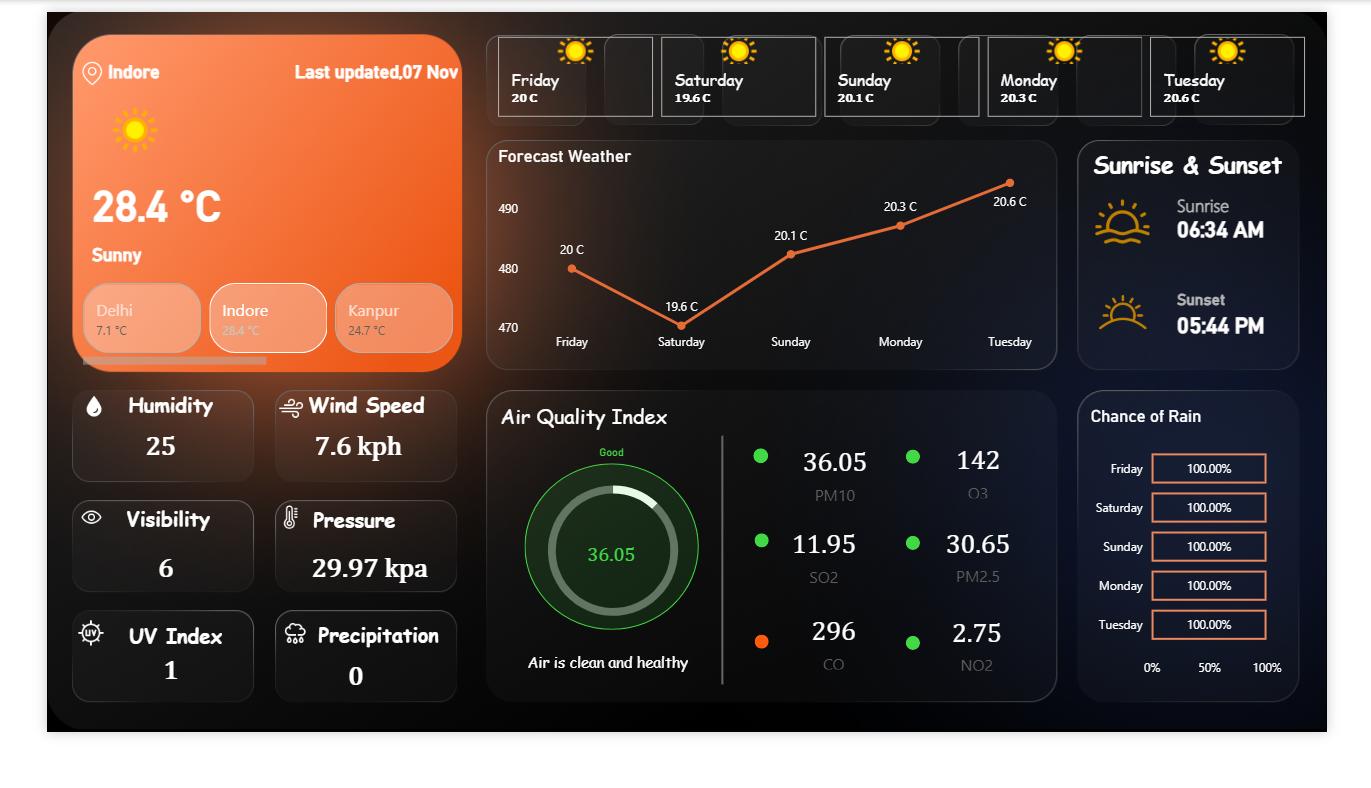

What the dashboard file says about the page in this screenshot:
{"tool":"powerbi","page":{"name":"Page 1","canvas":[1280,720],"ordinal":0},"visuals":[{"type":"advancedSlicerVisual","fields":{"Values":["location.location.name"],"Label":["_measures.curr_temp_c"]},"box":[31.7,266.7,380,93.3],"z":0},{"type":"shape","box":[45,145,170,97.5],"z":1000},{"type":"shape","box":[246.7,31.7,165,58.3],"z":2000},{"type":"shape","box":[61.7,31.7,126.7,58.3],"z":3000},{"type":"image","box":[0,45,90,33.3],"z":4000},{"type":"shape","box":[45,217.5,190,50],"z":5000},{"type":"cardVisual","fields":{"Data":["Min(current.current.condition.icon)"]},"box":[31.4,61.4,108.6,97.1],"z":6000},{"type":"image","box":[11.4,488.6,65.7,32.9],"z":7000},{"type":"shape","box":[58.6,377.1,130,32.9],"z":8000},{"type":"shape","box":[64.3,488.6,130,32.9],"z":9000},{"type":"shape","box":[64.3,608.6,130,32.9],"z":10000},{"type":"shape","box":[247.1,607.1,144.3,32.9],"z":11000},{"type":"shape","box":[247.1,488.6,130,32.9],"z":12000},{"type":"shape","box":[247.1,377.1,130,32.9],"z":13000},{"type":"image","box":[15.7,378.6,61.4,31.4],"z":14000},{"type":"image","box":[8.6,602.9,70,37.1],"z":15000},{"type":"image","box":[214.3,378.6,60,35.7],"z":16000},{"type":"image","box":[214.3,488.6,60,32.9],"z":17000},{"type":"image","box":[215.7,604.3,64.3,35.7],"z":18000},{"type":"card","fields":{"Values":["Sum(current.current.humidity)"]},"box":[38.6,410,150,48.6],"z":19000},{"type":"card","fields":{"Values":["Sum(current.current.precip_in)"]},"box":[234.3,640,150,48.6],"z":20000},{"type":"card","fields":{"Values":["Sum(current.current.vis_km)"]},"box":[44.3,531.4,150,48.6],"z":21000},{"type":"card","fields":{"Values":["Sum(current.current.uv)"]},"box":[48.6,641.4,150,32.9],"z":22000},{"type":"card","fields":{"Values":["_measures.pressure"]},"box":[247.1,531.4,150,48.6],"z":23000},{"type":"advancedSlicerVisual","fields":{"Values":["forecast by day.day name"],"Label":["_measures.ForTEMP_C"]},"box":[445.7,20,820,90],"z":24000},{"type":"lineChart","title":"Forecast Weather ","fields":{"Y":["Sum(forecast by day.forecast.forecastday.day.avgtemp_c)"],"Category":["forecast by day.day name"]},"box":[445.7,134.3,565.7,214.3],"z":25000},{"type":"shape","box":[1040,135.7,201.4,41.4],"z":26000},{"type":"shape","box":[1130,168.6,111.4,48.6],"z":27000},{"type":"shape","box":[1130,264.3,111.4,48.6],"z":28000},{"type":"shape","box":[1130,192.9,111.4,48.6],"z":29000},{"type":"shape","box":[1130,288.6,111.4,48.6],"z":30000},{"type":"image","box":[1035.7,264.3,78.6,72.9],"z":31000},{"type":"image","box":[1035.7,177.1,78.6,64.3],"z":32000},{"type":"hundredPercentStackedBarChart","title":"Chance of Rain ","fields":{"Y":["Sum(forecast by day.forecast.forecastday.day.daily_chance_of_rain)","_measures.LEFT VALUE RAIN"],"Category":["forecast by day.day name"]},"box":[1039,394,201,280],"z":33000},{"type":"shape","box":[445.7,390,181.4,40],"z":34000},{"type":"card","fields":{"Values":["_measures.wind_speed"]},"box":[236.7,410,150,48.3],"z":35000},{"type":"card","fields":{"Values":["Sum(current.current.air_quality.pm2_5)"]},"box":[873.3,505,115,75],"z":37000},{"type":"card","fields":{"Values":["Sum(current.current.air_quality.o3)"]},"box":[873.3,426.7,115,65],"z":38000},{"type":"card","fields":{"Values":["Sum(current.current.air_quality.so2)"]},"box":[721.7,506.7,111.7,73.3],"z":39000},{"type":"card","fields":{"Values":["Sum(current.current.air_quality.no2)"]},"box":[872.5,598.8,115,65],"z":40000},{"type":"card","fields":{"Values":["Sum(current.current.air_quality.co)"]},"box":[728.8,597.5,116.2,65],"z":41000},{"type":"card","fields":{"Values":["Sum(current.current.air_quality.pm10)"]},"box":[731.2,426.2,113.8,68.8],"z":42000},{"type":"shape","box":[706.7,436.7,15,15],"z":43000},{"type":"shape","box":[707.1,622.9,14.3,14.3],"z":43002},{"type":"shape","box":[707.1,521.4,14.3,14.3],"z":43003},{"type":"shape","box":[858.6,524.3,14.3,14.3],"z":43004},{"type":"shape","box":[858.6,437.1,14.3,14.3],"z":43005},{"type":"shape","box":[858.6,624.3,14.3,14.3],"z":43006},{"type":"shape","box":[627.1,424.3,95.7,248.6],"z":43007},{"type":"card","fields":{"Values":["Sum(current.current.air_quality.pm10)"]},"box":[507.1,508.6,114.3,68.6],"z":43009},{"type":"donutChart","fields":{"Y":["Sum(current.current.air_quality.pm10)","MEASURE.left value PM10"]},"box":[455.7,452.9,220,172.9],"z":43010},{"type":"shape","box":[477.1,434.3,174.3,184.3],"z":43011},{"type":"shape","box":[470,640,181.4,40],"z":43012}]}

Visuals, with their boxes in screenshot pixels (x1, y1, x2, y2), scaled from the page's 1280x720 canvas onto the 1371x788 screenshot:
advancedSlicerVisual - location.location.name x _measures.curr_temp_c: 34, 292, 441, 394
shape: 48, 159, 230, 265
shape: 264, 35, 441, 99
shape: 66, 35, 202, 99
image: 0, 49, 96, 86
shape: 48, 238, 252, 293
cardVisual - Min(current.current.condition.icon): 34, 67, 150, 173
image: 12, 535, 83, 571
shape: 63, 413, 202, 449
shape: 69, 535, 208, 571
shape: 69, 666, 208, 702
shape: 265, 664, 419, 700
shape: 265, 535, 404, 571
shape: 265, 413, 404, 449
image: 17, 414, 83, 449
image: 9, 660, 84, 700
image: 230, 414, 294, 453
image: 230, 535, 294, 571
image: 231, 661, 300, 700
card - Sum(current.current.humidity): 41, 449, 202, 502
card - Sum(current.current.precip_in): 251, 700, 412, 754
card - Sum(current.current.vis_km): 47, 582, 208, 635
card - Sum(current.current.uv): 52, 702, 213, 738
card - _measures.pressure: 265, 582, 425, 635
advancedSlicerVisual - forecast by day.day name x _measures.ForTEMP_C: 477, 22, 1356, 120
"Forecast Weather " lineChart: 477, 147, 1083, 382
shape: 1114, 149, 1330, 194
shape: 1210, 185, 1330, 238
shape: 1210, 289, 1330, 342
shape: 1210, 211, 1330, 264
shape: 1210, 316, 1330, 369
image: 1109, 289, 1194, 369
image: 1109, 194, 1194, 264
"Chance of Rain " hundredPercentStackedBarChart: 1113, 431, 1328, 738
shape: 477, 427, 672, 471
card - _measures.wind_speed: 254, 449, 414, 502
card - Sum(current.current.air_quality.pm2_5): 935, 553, 1059, 635
card - Sum(current.current.air_quality.o3): 935, 467, 1059, 538
card - Sum(current.current.air_quality.so2): 773, 555, 893, 635
card - Sum(current.current.air_quality.no2): 935, 655, 1058, 726
card - Sum(current.current.air_quality.co): 781, 654, 905, 725
card - Sum(current.current.air_quality.pm10): 783, 466, 905, 542
shape: 757, 478, 773, 494
shape: 757, 682, 773, 697
shape: 757, 571, 773, 586
shape: 920, 574, 935, 589
shape: 920, 478, 935, 494
shape: 920, 683, 935, 699
shape: 672, 464, 774, 736
card - Sum(current.current.air_quality.pm10): 543, 557, 666, 632
donutChart - Sum(current.current.air_quality.pm10) x MEASURE.left value PM10: 488, 496, 724, 685
shape: 511, 475, 698, 677
shape: 503, 700, 698, 744
